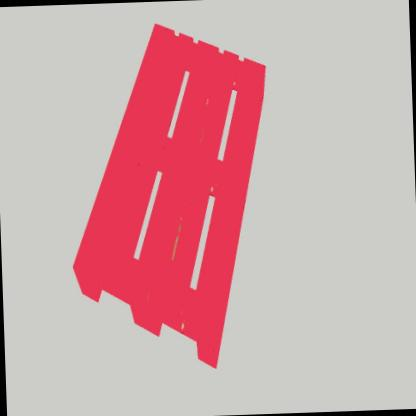BoxFace: (71, 17, 268, 379)
